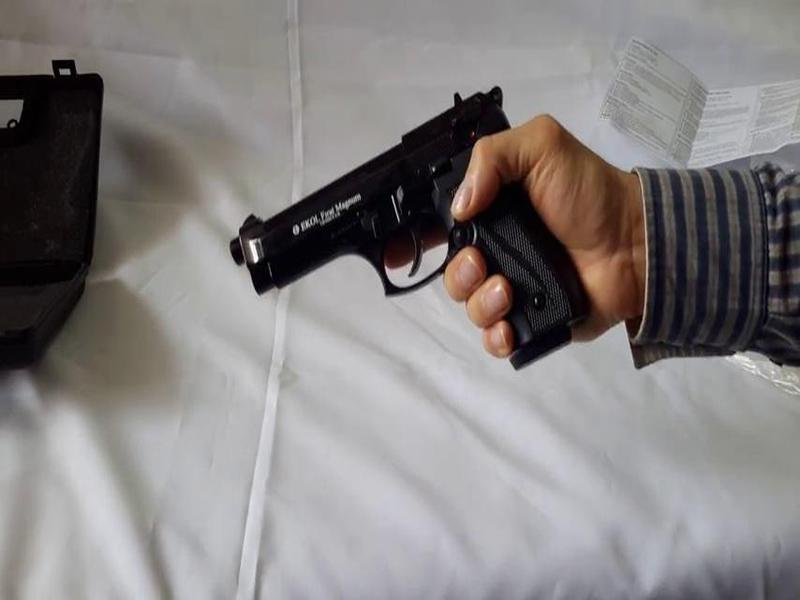Pistola: (205, 87, 591, 375)
